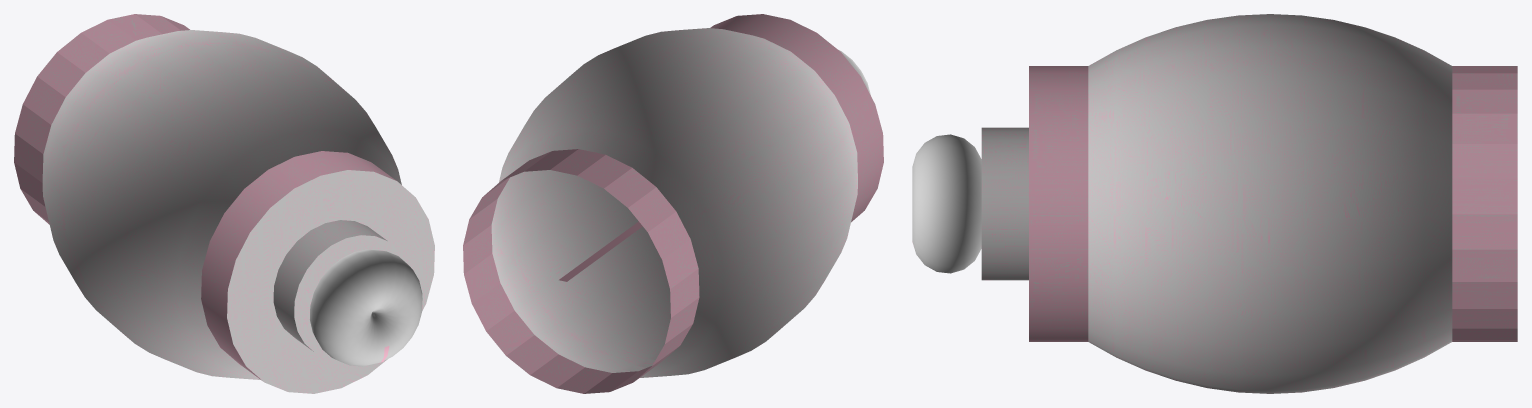
File: model_align.obj
3 renders of one model, left to right at view 1: azimuth 30°, elevation 25°; view 2: azimuth 150°, elevation 25°; view 3: azimuth 270°, elevation 25°, orthographic. The views are drawn at different scales.
Visible parts, largest first — view 1: mesh1_mesh1-geometry; view 2: mesh1_mesh1-geometry; view 3: mesh1_mesh1-geometry.
Part boxes in pixels (x1,y1,x2,y2): mesh1_mesh1-geometry: (14,14,434,393); mesh1_mesh1-geometry: (463,14,883,393); mesh1_mesh1-geometry: (912,14,1517,393).
Bounding box in the file's own units: 0.1381 × 0.1381 × 0.2205.
